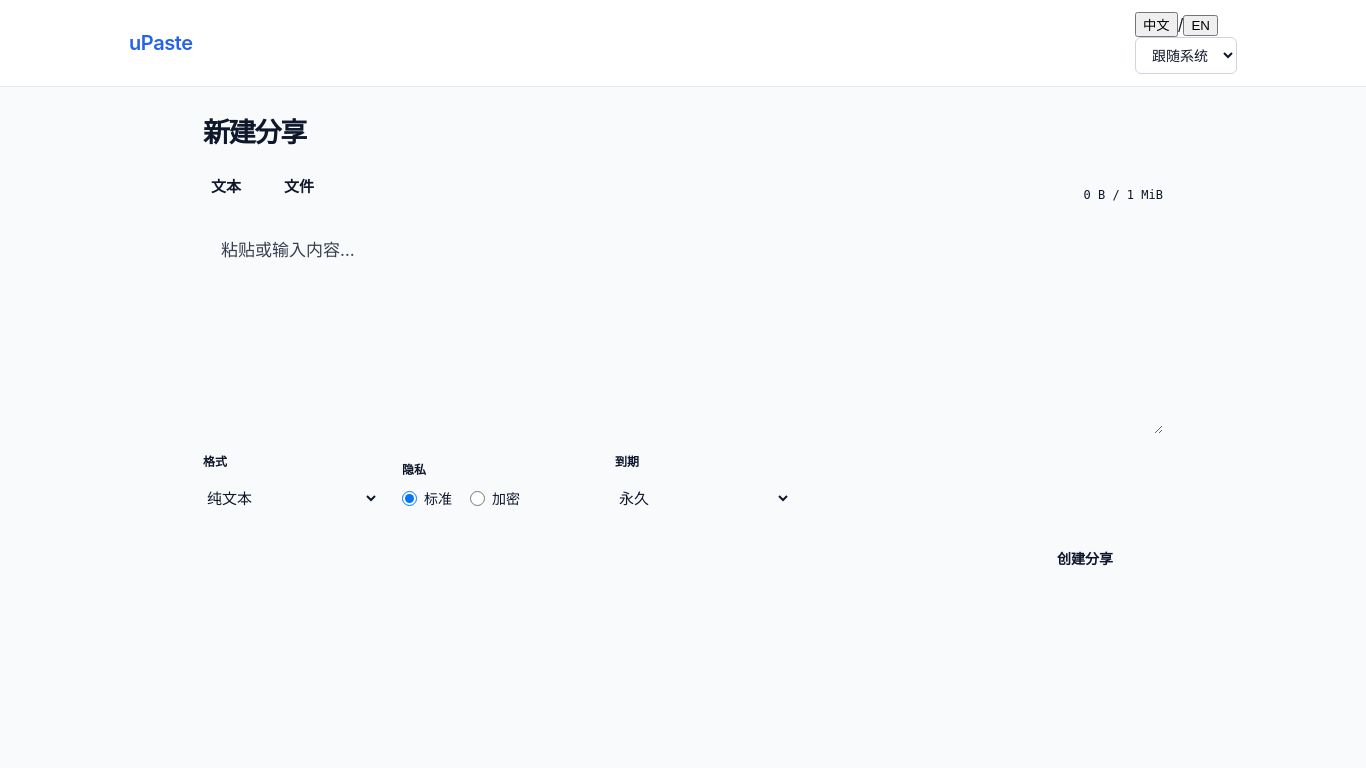
CreatePage draft preservation & beforeunload › switches Chinese and English without losing the text draft
Expected: the heading "新建分享" is shown, [203,116,306,149]
In the text box labelled "内容": point(683, 324) [203,214,1163,434], type "保留这段草稿"
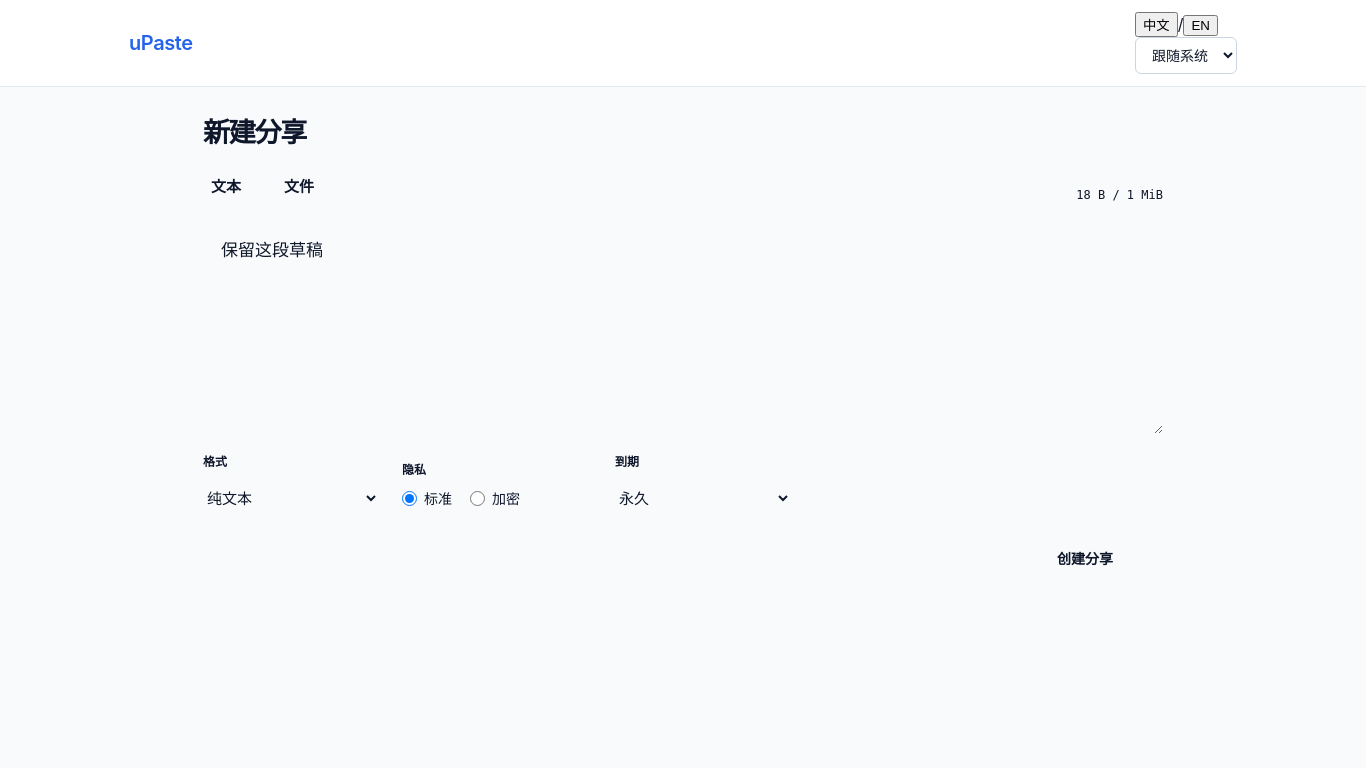
Click the button "EN": point(1201, 26) [1183,15,1218,36]
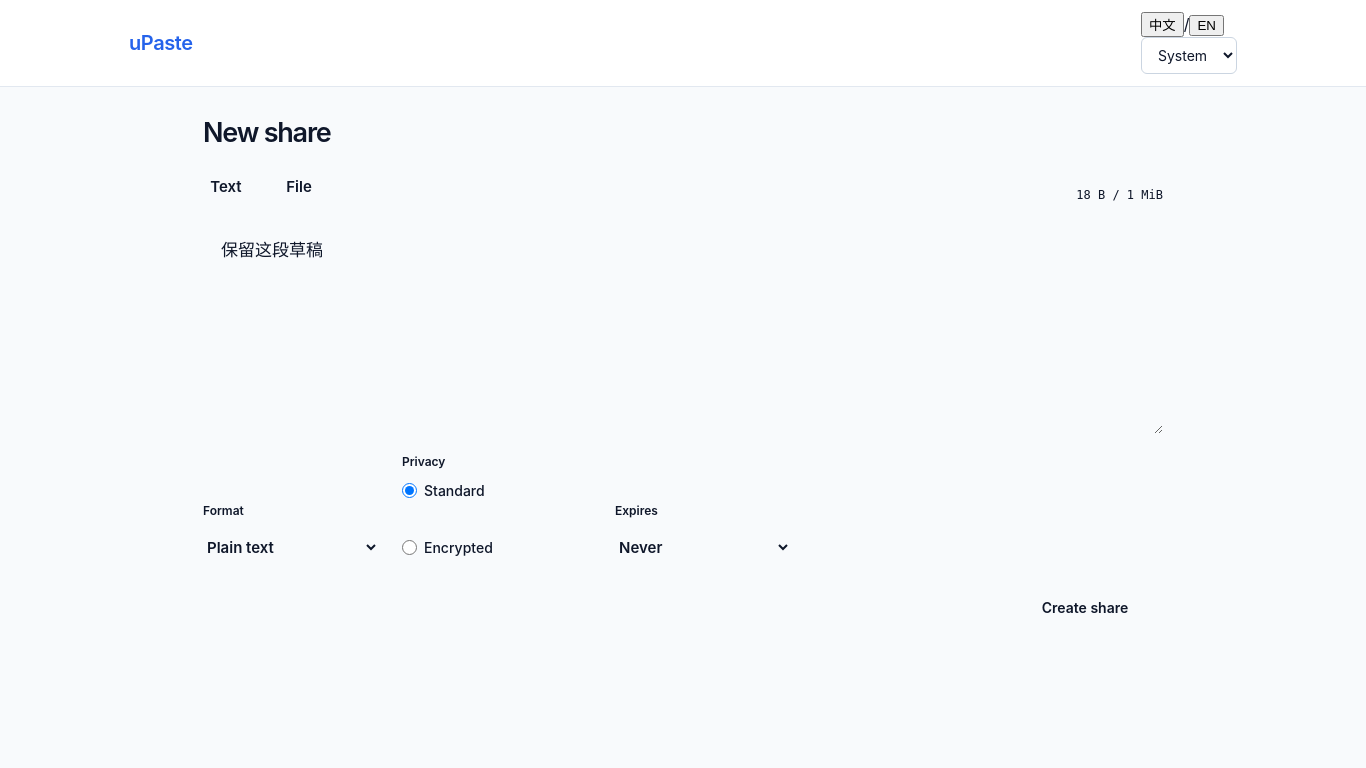
Expected: the heading "New share" is shown, [203,116,330,149]
Click the button "中文": point(1162, 24) [1141,12,1184,37]
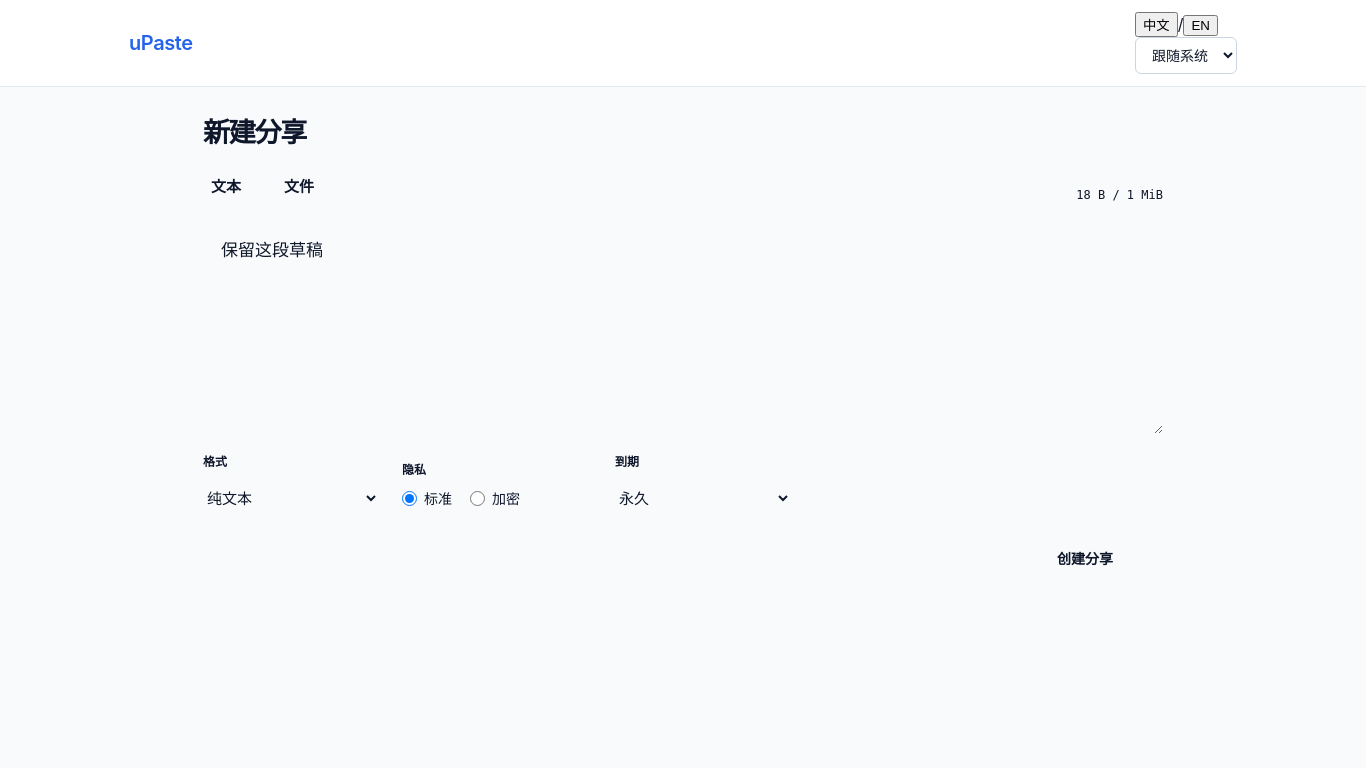
Expected: the heading "新建分享" is shown, [203,116,306,149]
